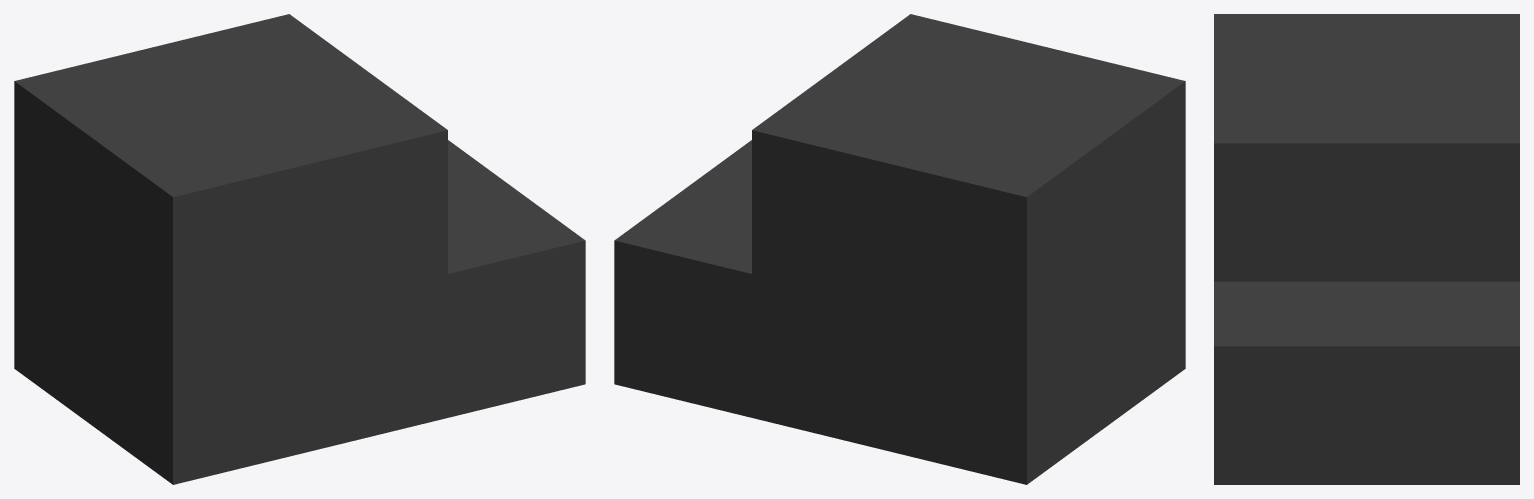
The model's file is Hero_Shoe.dae.
3 views of the same model, side by side, from view 1: azimuth 30°, elevation 25°; view 2: azimuth 150°, elevation 25°; view 3: azimuth 270°, elevation 25° (orthographic). The views are drawn at different scales.
Parts seen in each view (by area): view 1: Hero_Shoe; view 2: Hero_Shoe; view 3: Hero_Shoe.
Boxes of the visible parts, x1,y1,x2,y2 form: Hero_Shoe: [14, 14, 585, 484]; Hero_Shoe: [614, 14, 1185, 484]; Hero_Shoe: [1214, 14, 1519, 484].
Size of the model in its own units: 0.3 by 0.2 by 0.2.
Materials: 1 (1 with a texture image).
